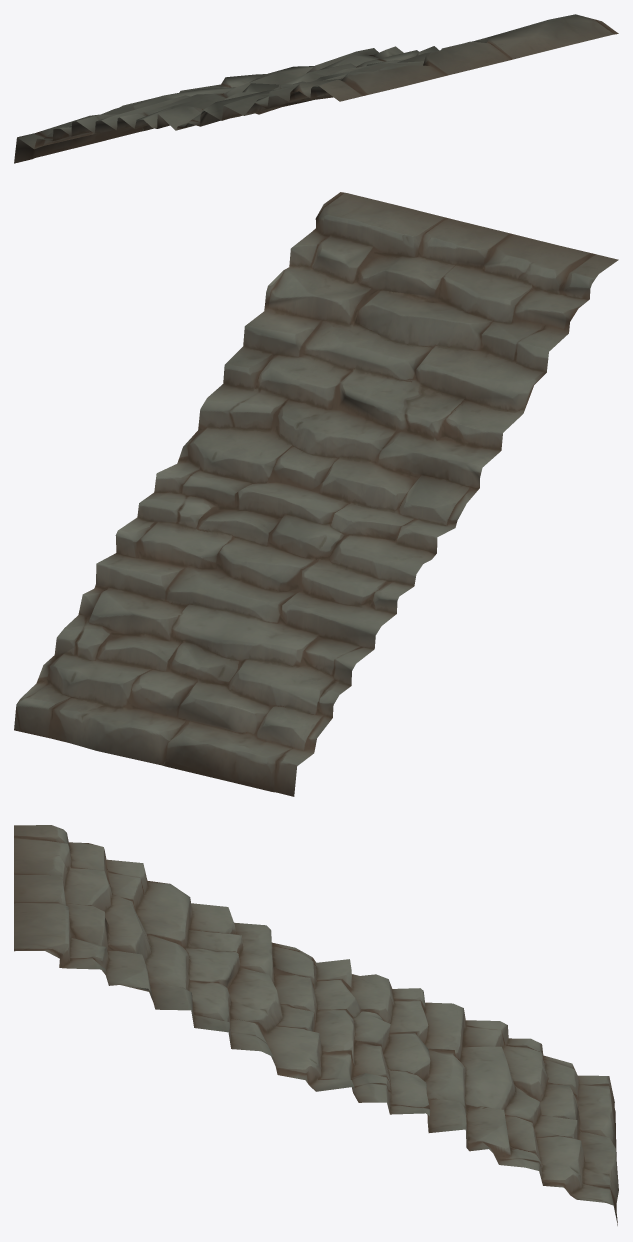
Rendered from SM_FW01_Ruins_Int_Stairs_4x2x2_R_01.fbx.
3 renders of one model, top to bottom at view 1: azimuth 30°, elevation 25°; view 2: azimuth 150°, elevation 25°; view 3: azimuth 270°, elevation 25°, orthographic. The views are drawn at different scales.
Parts seen in each view (by area): view 1: SM_FW01_Ruins_Int_Stairs_4x2x2_R_01_LOD0; view 2: SM_FW01_Ruins_Int_Stairs_4x2x2_R_01_LOD0; view 3: SM_FW01_Ruins_Int_Stairs_4x2x2_R_01_LOD0.
Boxes of the visible parts, x1=… form: SM_FW01_Ruins_Int_Stairs_4x2x2_R_01_LOD0: x1=14, y1=14, x2=618, y2=163; SM_FW01_Ruins_Int_Stairs_4x2x2_R_01_LOD0: x1=14, y1=192, x2=618, y2=796; SM_FW01_Ruins_Int_Stairs_4x2x2_R_01_LOD0: x1=14, y1=825, x2=618, y2=1225.
Size of what is drawn, in the model's own units: 2.01 by 2.09 by 4.08.
